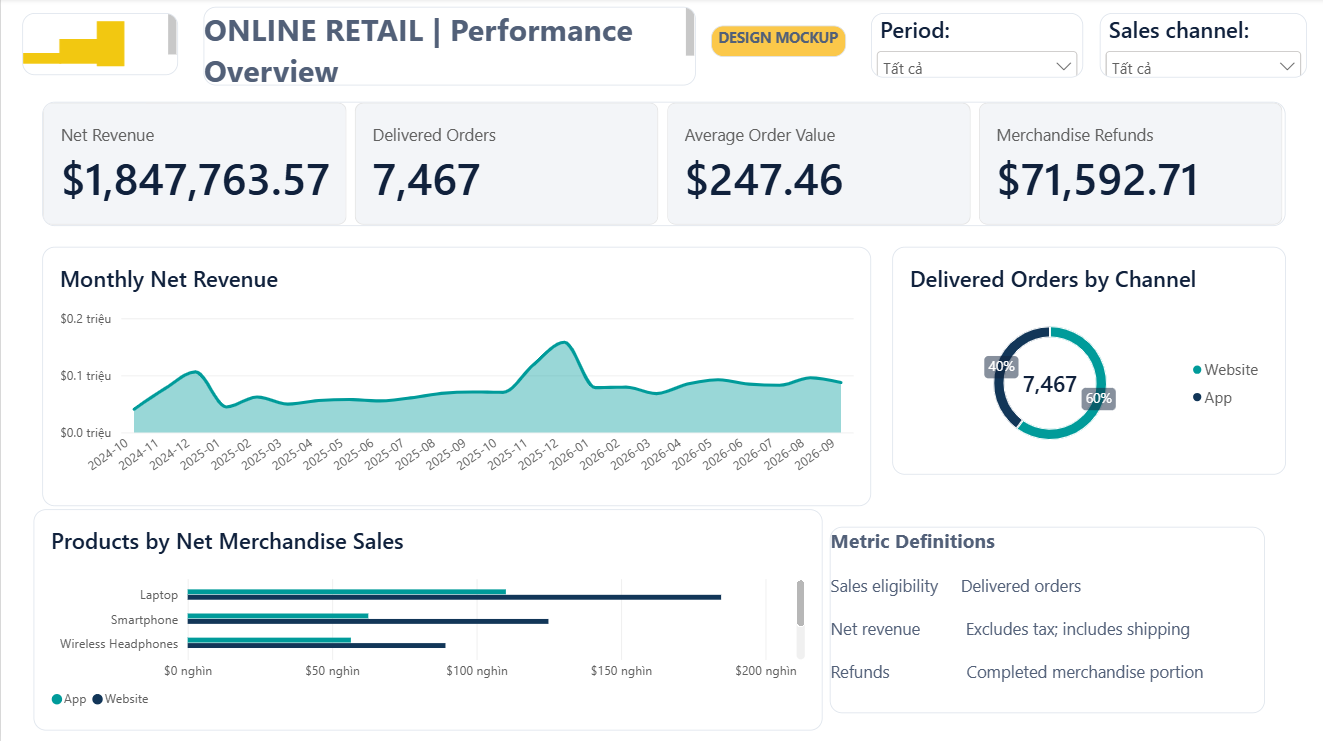

The dashboard page shown, as its layout file describes it:
{"tool":"powerbi","page":{"name":"Executive Overview","canvas":[1280,720],"ordinal":0},"visuals":[{"type":"cardVisual","fields":{"Data":["FactOrder.Net Revenue","FactOrder.Delivered Orders","FactOrder.Average Order Value","FactOrder.Merchandise Refunds"]},"box":[40,100,1200,120],"z":0},{"type":"areaChart","title":"Monthly Net Revenue","fields":{"Category":["DimDate.YearMonth"],"Y":["FactOrder.Net Revenue"]},"box":[40,240,800,250],"z":1000},{"type":"donutChart","title":"Delivered Orders by Channel","fields":{"Category":["DimChannel.SalesChannel"],"Y":["FactOrder.Delivered Orders"]},"box":[860,240,380,220],"z":2000},{"type":"clusteredBarChart","title":"Products by Net Merchandise Sales","fields":{"Category":["DimProduct.ProductName"],"Series":["DimChannel.SalesChannel"],"Y":["FactOrder.Net Merchandise Sales"]},"box":[31.9,493,761.7,213.7],"z":3000},{"type":"textbox","box":[195,8,475,76],"z":4000},{"type":"textbox","box":[20,15,150,60],"z":5000},{"type":"textbox","box":[685,26,130,30],"z":6000},{"type":"slicer","fields":{"Values":["DimDate.YearMonth"]},"box":[840,14,205,62],"z":7000},{"type":"slicer","fields":{"Values":["DimChannel.SalesChannel"]},"box":[1060,14,200,62],"z":8000},{"type":"textbox","box":[800,510,420,180],"z":9000}]}

Visuals, with their boxes in screenshot pixels (x1, y1, x2, y2), scaled from the page's 1280x720 canvas onto the 1323x741 screenshot:
cardVisual - FactOrder.Net Revenue x FactOrder.Delivered Orders: [41,103,1282,226]
"Monthly Net Revenue" areaChart: [41,247,868,504]
"Delivered Orders by Channel" donutChart: [889,247,1282,473]
"Products by Net Merchandise Sales" clusteredBarChart: [33,507,820,727]
textbox: [202,8,693,86]
textbox: [21,15,176,77]
textbox: [708,27,842,58]
slicer - DimDate.YearMonth: [868,14,1080,78]
slicer - DimChannel.SalesChannel: [1096,14,1302,78]
textbox: [827,525,1261,710]
